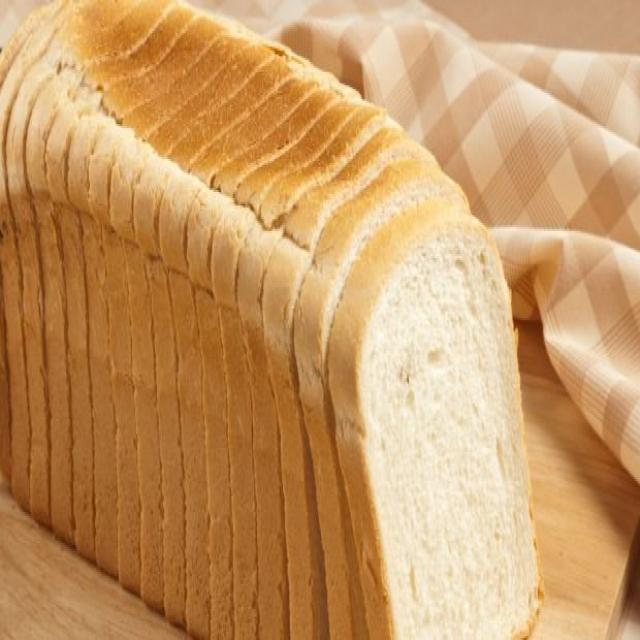Bread: (0, 0, 549, 640), (9, 76, 525, 608), (314, 189, 547, 640)
